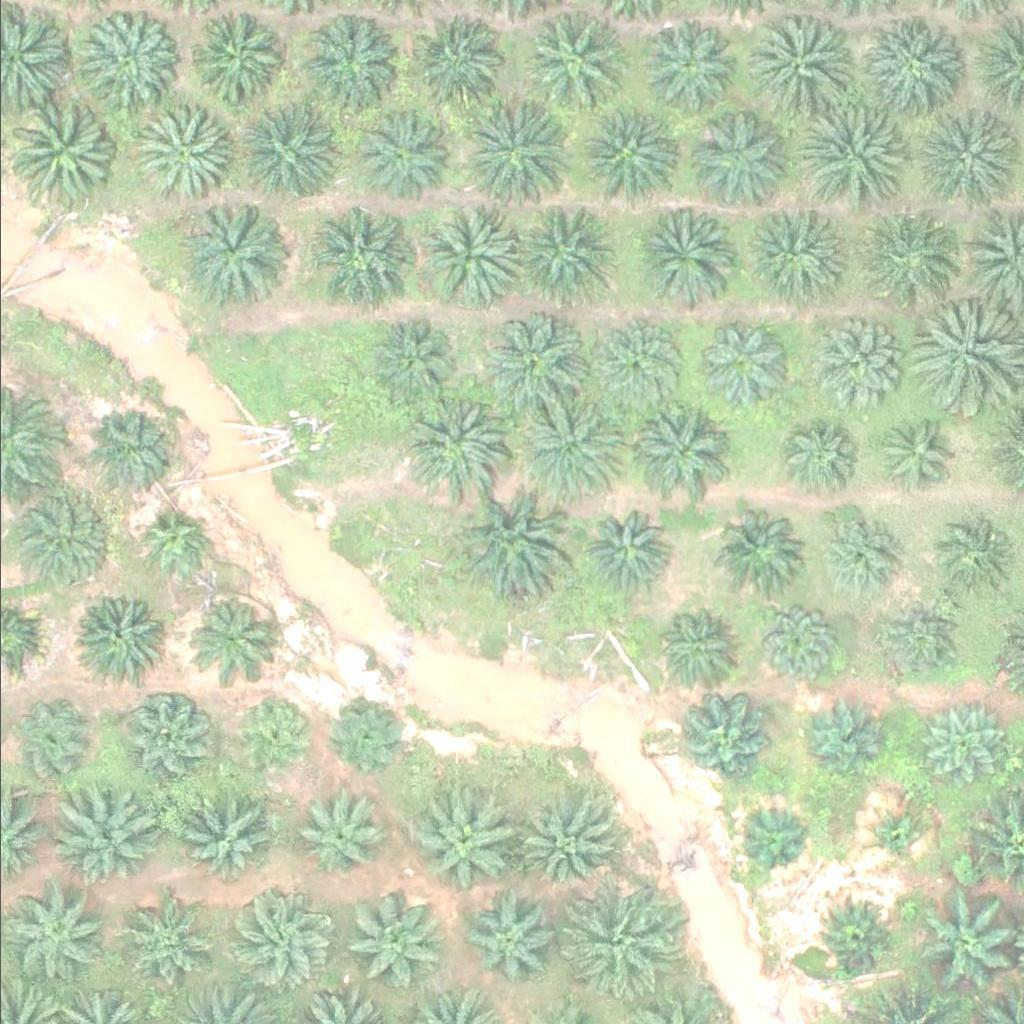Kelapa_Sawit: (558, 885, 672, 998), (799, 102, 912, 215), (454, 483, 567, 596), (908, 108, 1022, 220), (909, 301, 1023, 413), (909, 894, 1022, 1006), (2, 94, 115, 206), (517, 386, 630, 498), (459, 98, 572, 210), (864, 19, 965, 119), (739, 18, 840, 118), (687, 111, 788, 211), (852, 204, 953, 304), (737, 208, 838, 308), (629, 209, 730, 309), (177, 198, 278, 298), (128, 105, 229, 205), (183, 3, 284, 103), (75, 10, 176, 110), (229, 890, 330, 990), (288, 782, 389, 882), (405, 392, 506, 492), (488, 317, 589, 417), (419, 201, 520, 301), (507, 201, 608, 301), (575, 105, 676, 205), (691, 317, 791, 417), (627, 403, 727, 503), (169, 788, 269, 888), (53, 791, 153, 891), (15, 490, 115, 590), (227, 103, 327, 203), (345, 894, 445, 994), (515, 798, 615, 898), (409, 789, 509, 889), (310, 207, 410, 307), (351, 103, 451, 203), (306, 15, 406, 115), (526, 7, 626, 107), (410, 12, 510, 112), (771, 408, 860, 496), (595, 322, 684, 410), (918, 514, 1006, 602), (912, 701, 1000, 789), (673, 698, 761, 786), (111, 904, 199, 992), (224, 692, 312, 780), (6, 696, 94, 784), (86, 405, 174, 493), (646, 603, 734, 690), (753, 598, 841, 685), (874, 598, 962, 685), (865, 405, 953, 492), (814, 508, 902, 595), (714, 504, 802, 591), (643, 21, 731, 108), (802, 324, 890, 411), (806, 696, 894, 783), (123, 694, 211, 781), (182, 596, 270, 683), (77, 592, 165, 679), (460, 895, 548, 982), (323, 694, 411, 781), (577, 509, 665, 596), (370, 318, 458, 405), (132, 508, 208, 583), (817, 896, 893, 971), (735, 802, 810, 877), (858, 803, 921, 866)
